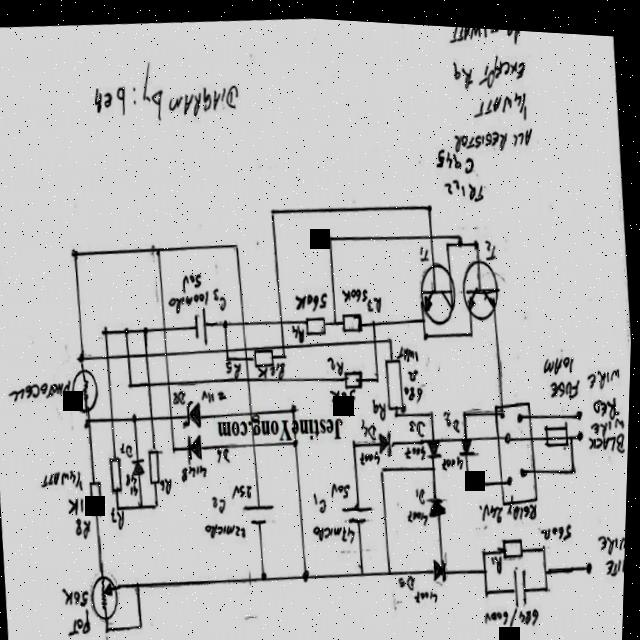capacitor: (512, 558, 537, 608)
diode: (452, 421, 484, 457), (374, 419, 402, 457), (182, 394, 210, 432), (429, 547, 455, 583), (186, 431, 213, 464), (425, 487, 454, 514), (424, 426, 449, 457), (128, 445, 151, 478)
node: (293, 429, 303, 449), (303, 564, 314, 582), (71, 244, 81, 263), (131, 409, 143, 424), (264, 565, 274, 583), (223, 313, 232, 330), (291, 398, 301, 413), (456, 229, 466, 243), (472, 233, 481, 246), (144, 323, 151, 337), (156, 241, 163, 255), (427, 195, 434, 209), (124, 325, 132, 337)
resistor: (66, 359, 107, 417), (88, 565, 126, 625), (383, 346, 408, 410), (144, 435, 168, 489), (86, 474, 110, 525), (540, 410, 574, 445), (499, 524, 531, 558), (109, 451, 130, 499), (340, 357, 369, 388), (340, 304, 369, 335), (303, 309, 331, 336), (252, 343, 280, 367)
source: (239, 494, 283, 531), (340, 493, 378, 530), (191, 300, 216, 347)
transistor: (458, 246, 508, 319), (416, 251, 462, 321)
